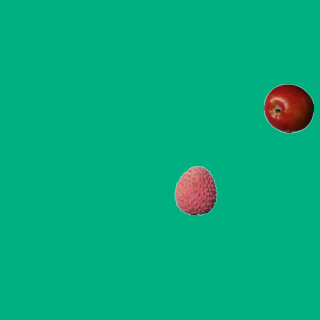Apple Braeburn: (263, 83, 313, 133)
Lychee: (170, 165, 220, 215)
